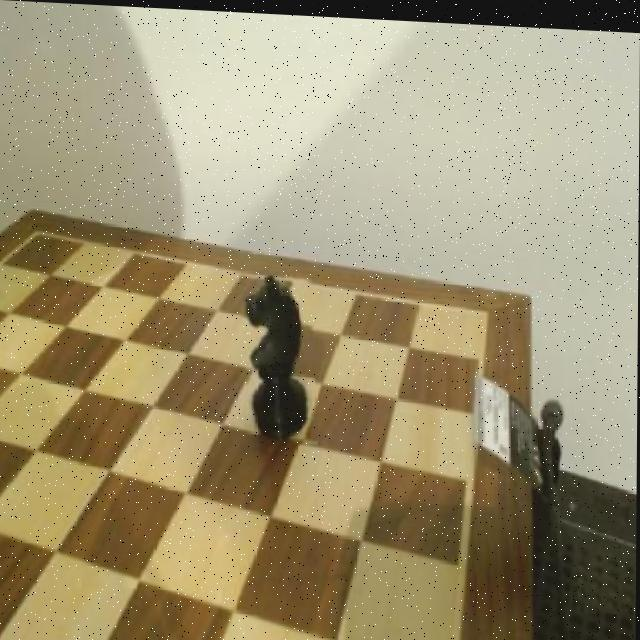black-king: (242, 267, 316, 446)
